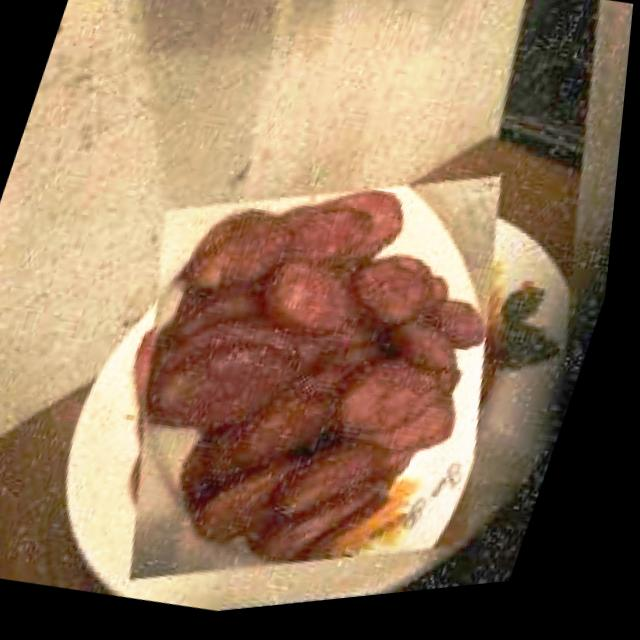chinese_sausage: (81, 126, 529, 613)
